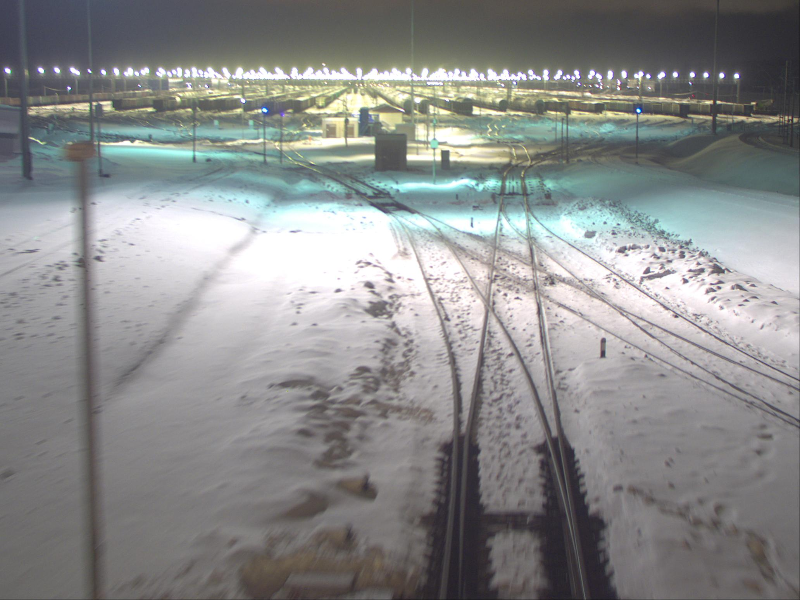railway_arrows: (442, 303, 590, 600)
